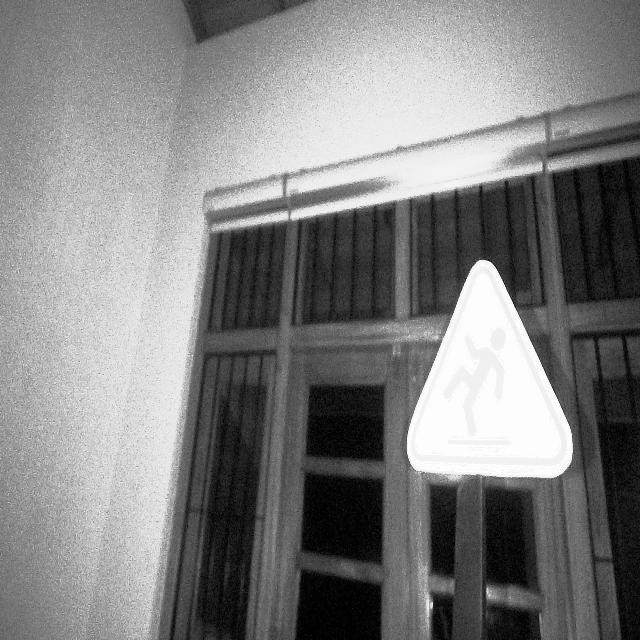Sign: (404, 256, 574, 480)
